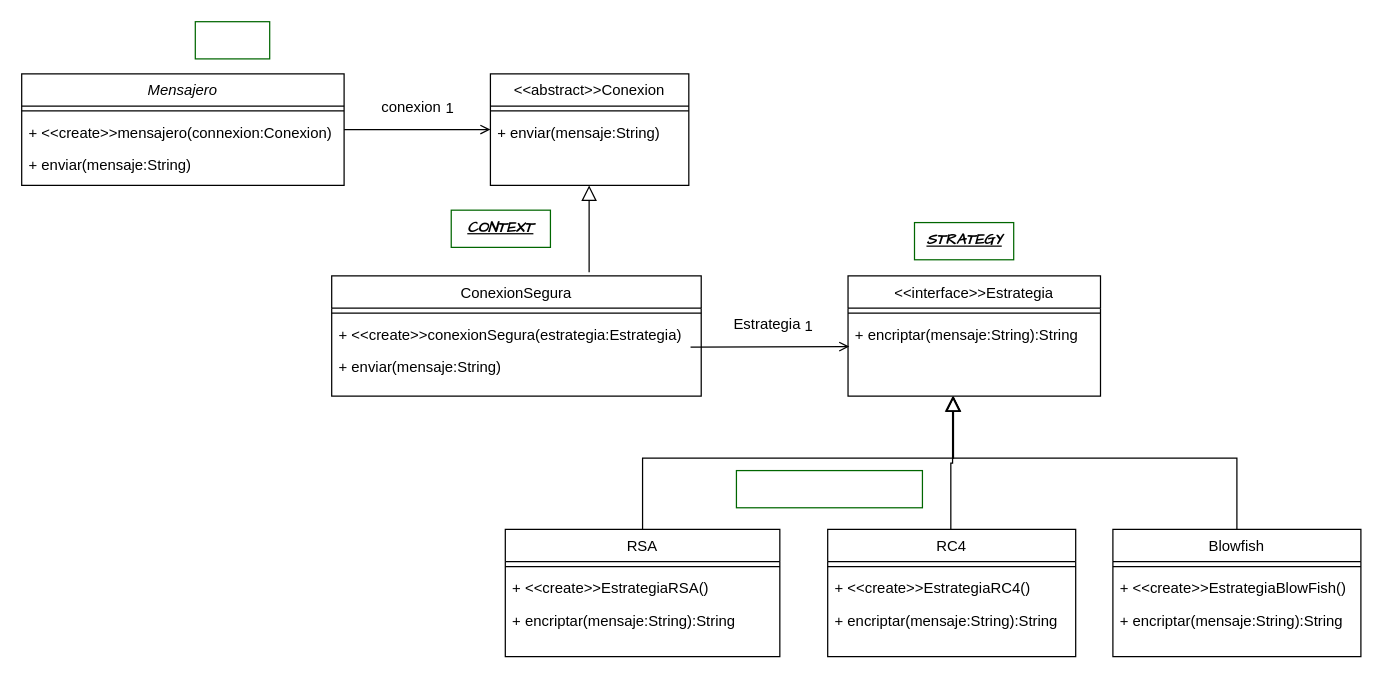
Some shapes in this 1383 by 678 pixel diagram are drawn without their labels. Here are the shapes that lost their labels. From the top down, the centre of each, then its label:
At pixel 232 39: "CLIENT".
At pixel 828 488: "CONCRETE STRATEGY".
